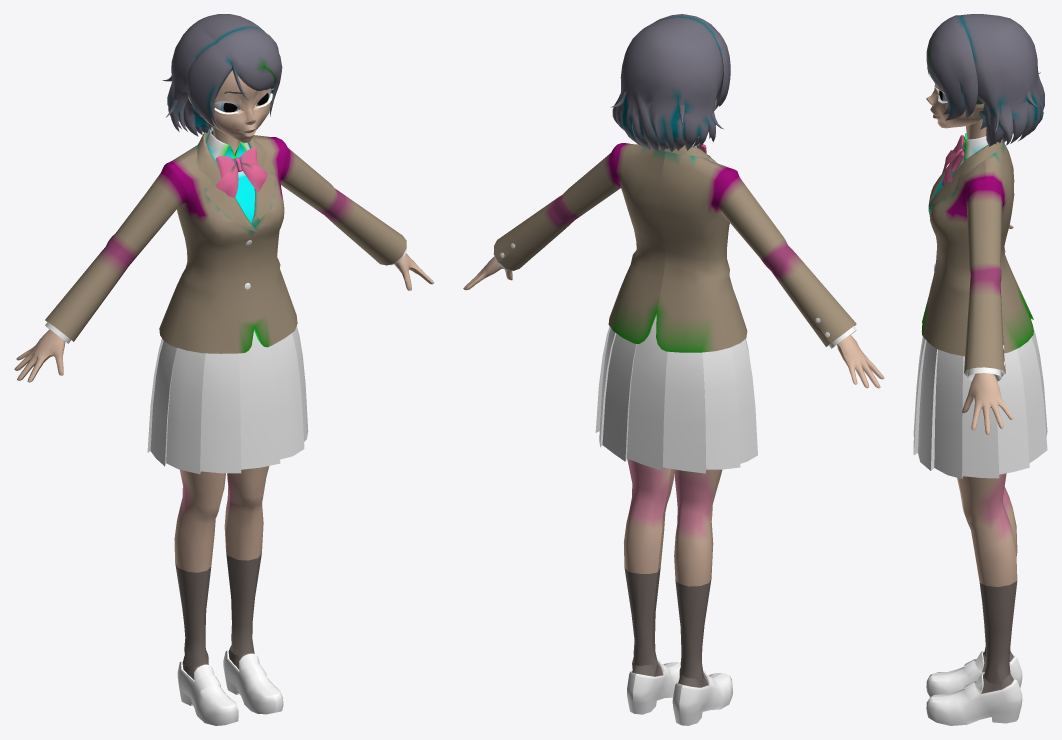
File: pass_girl_fbx.fbx
3 views of the same model, side by side, from view 1: azimuth 30°, elevation 25°; view 2: azimuth 150°, elevation 25°; view 3: azimuth 270°, elevation 25° (orthographic).
Visible parts, largest first — view 1: polySurface29, polySurface17, hair, polySurface81; view 2: polySurface29, polySurface17, hair; view 3: polySurface29, polySurface17, hair, polySurface81.
Part boxes in pixels (left/top/right/bottom): polySurface29: left=14, top=127, right=434, bottom=725; polySurface17: left=147, top=326, right=308, bottom=474; hair: left=162, top=14, right=282, bottom=136; polySurface81: left=188, top=70, right=273, bottom=154; polySurface29: left=463, top=143, right=884, bottom=725; polySurface17: left=595, top=315, right=757, bottom=473; hair: left=610, top=14, right=730, bottom=152; polySurface29: left=921, top=133, right=1033, bottom=725; polySurface17: left=913, top=328, right=1047, bottom=478; hair: left=926, top=14, right=1044, bottom=146; polySurface81: left=926, top=83, right=986, bottom=139.
Bounding box in the file's own units: 7.13 × 11.22 × 1.98.
